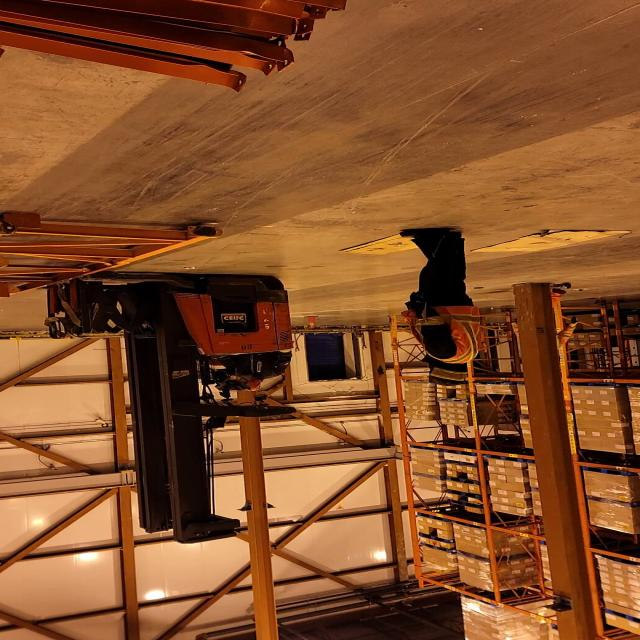forklift: (42, 271, 298, 536)
human: (390, 220, 490, 388), (504, 277, 579, 365), (215, 344, 312, 396)
objectofinterest: (0, 206, 225, 296), (468, 228, 638, 262), (334, 227, 474, 260)
